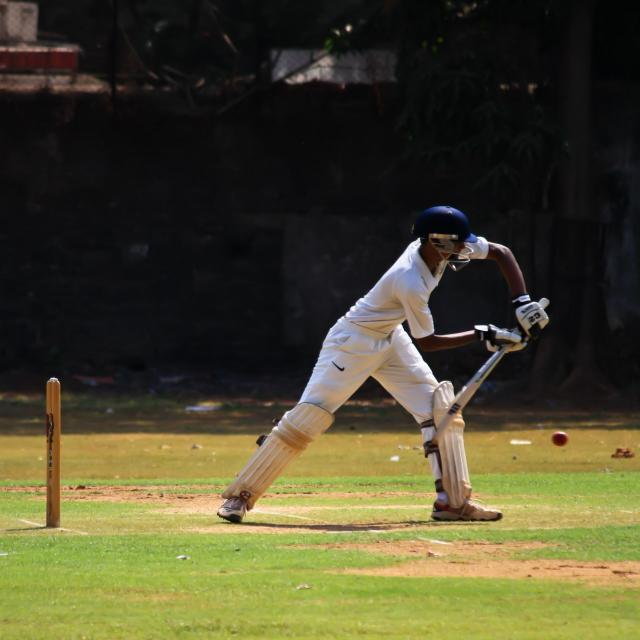ball: (546, 426, 574, 452)
stump: (44, 379, 63, 528)
